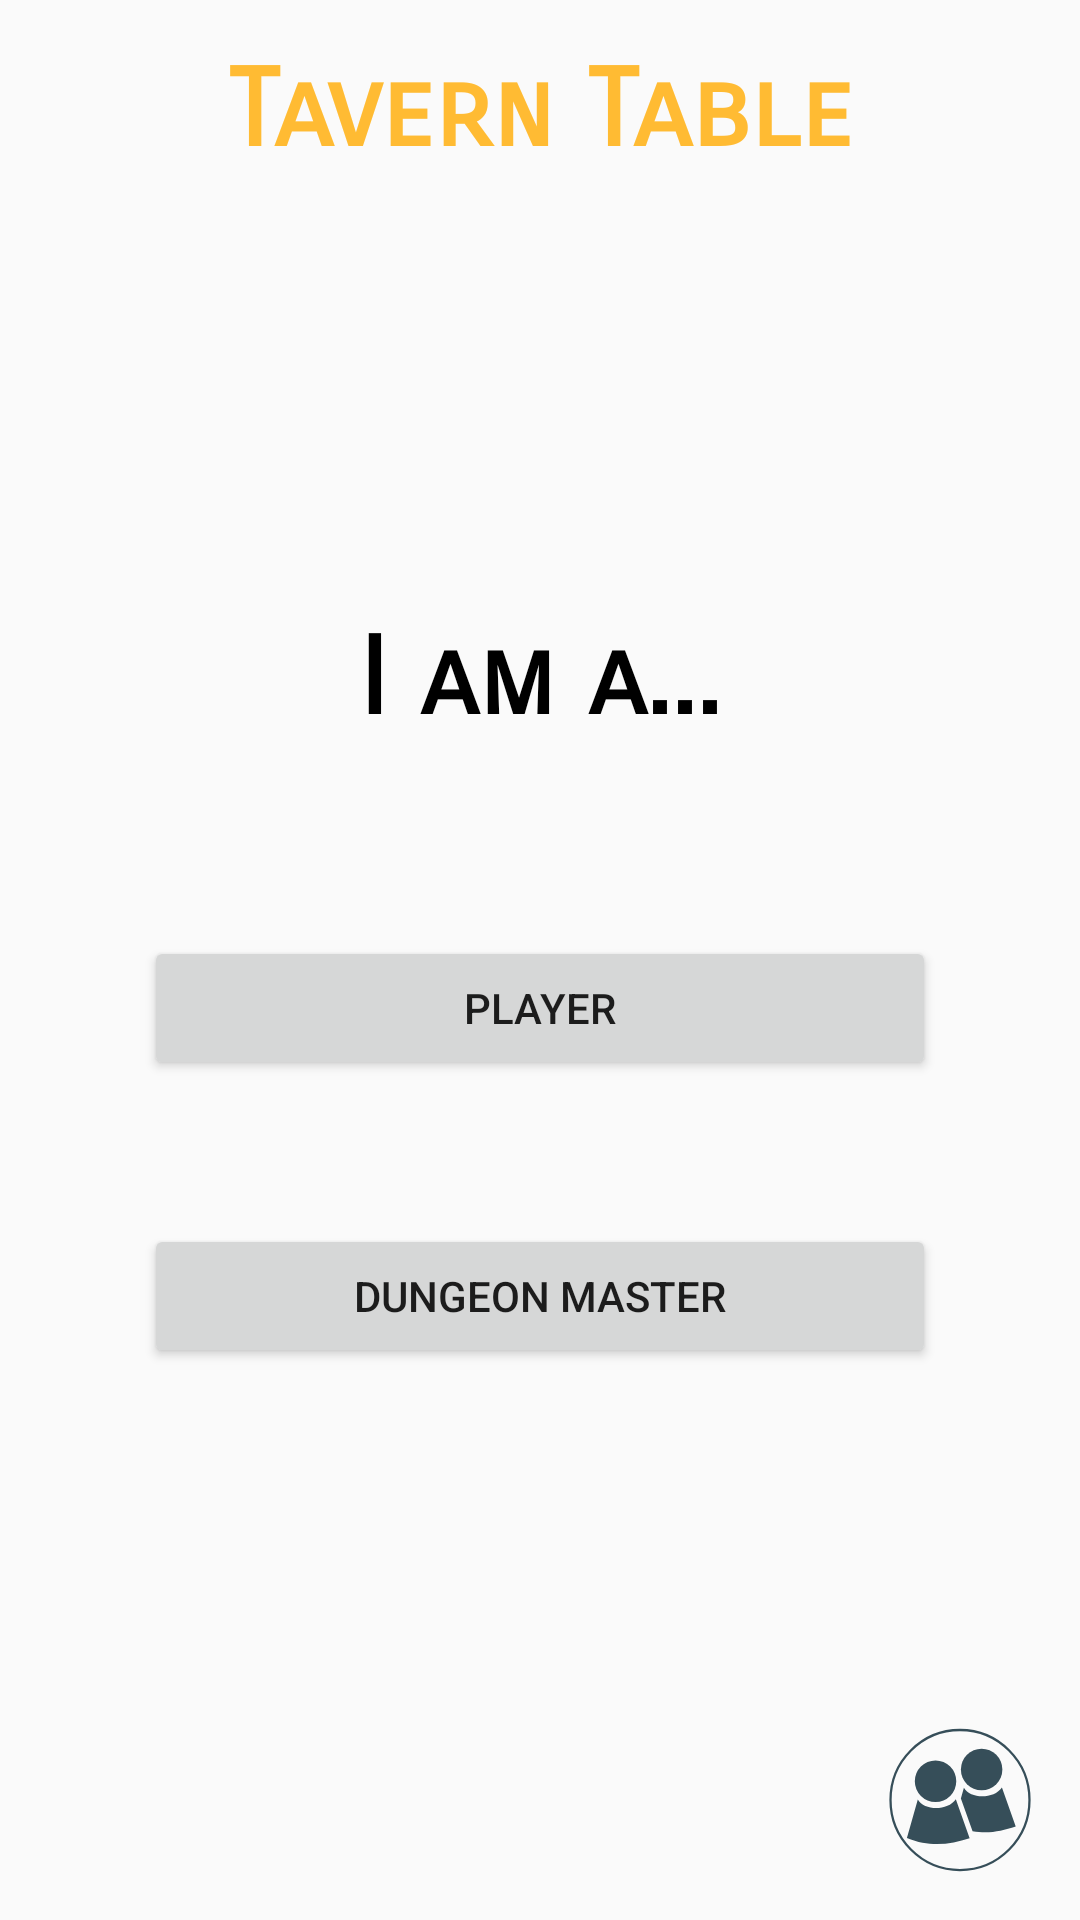

Named icons in this screenshot (1080*1920) and their centers, (x,y):
Friend button: (960,1800)
